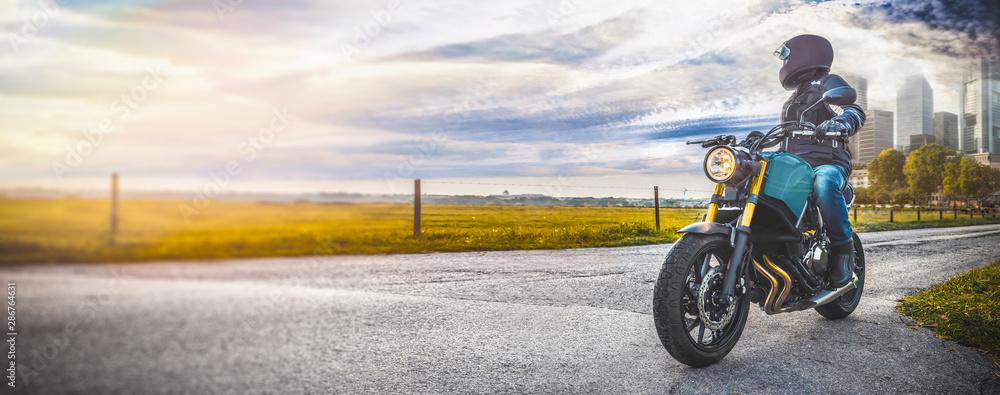helmet: (772, 33, 835, 91)
